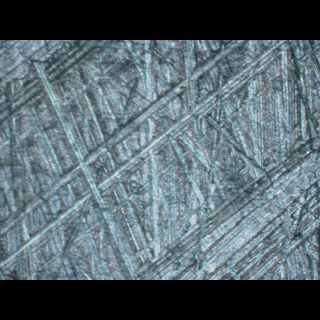d: (128, 133, 320, 279), (28, 59, 140, 275)
